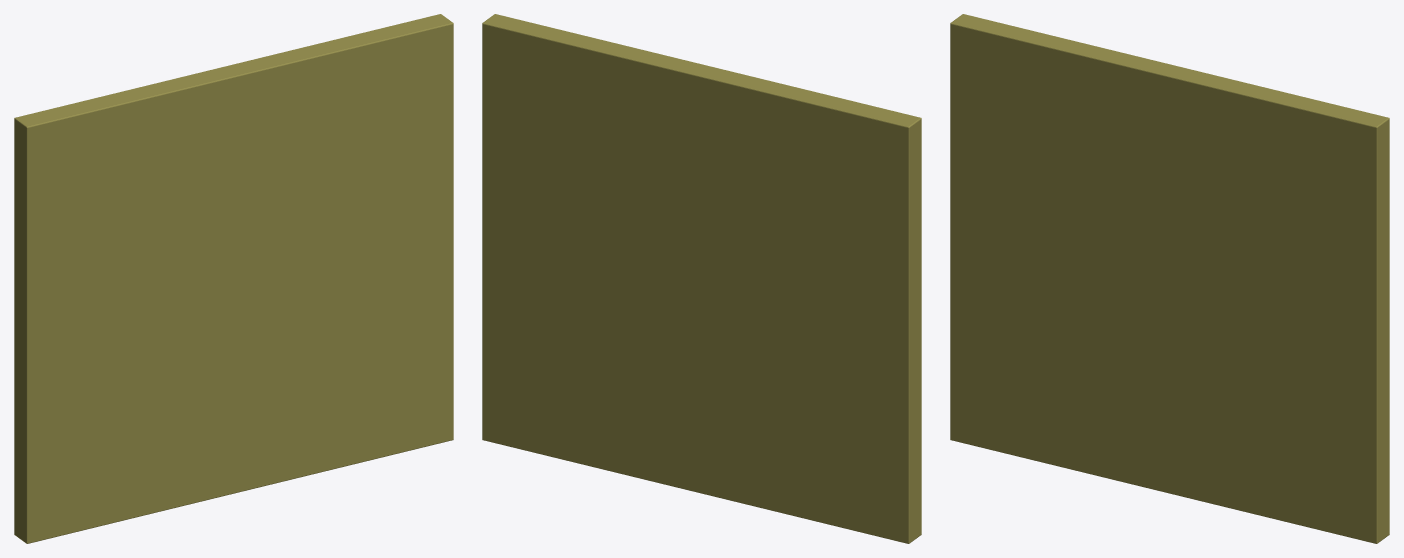
File: plain_wall.glb
The picture shows the model from 3 angles, left to right: view 1: azimuth 30°, elevation 25°; view 2: azimuth 150°, elevation 25°; view 3: azimuth 330°, elevation 25°; orthographic projection.
Visible parts, largest first — view 1: WallBody; view 2: WallBody; view 3: WallBody.
Part boxes in pixels (x1,y1,x2,y2): WallBody: [14, 14, 453, 543]; WallBody: [482, 14, 921, 543]; WallBody: [950, 14, 1389, 543].
Size of what is drawn, in the model's own units: 3 by 2.8 by 0.16.
